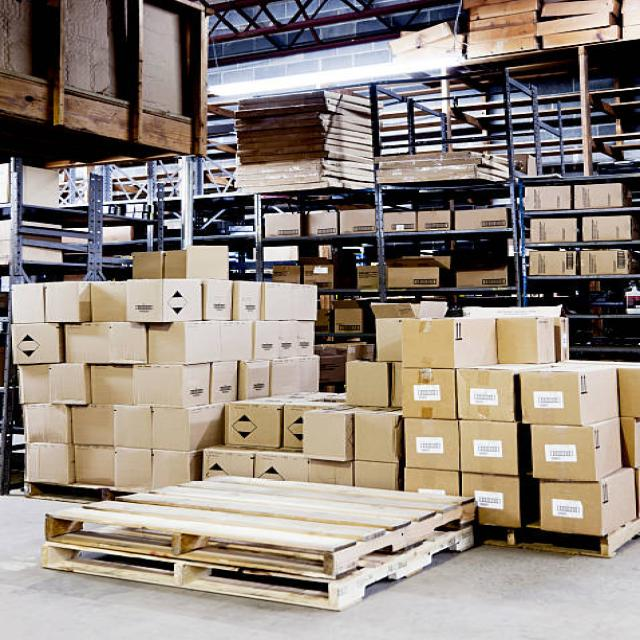Wooden-Pallets: (34, 459, 484, 577), (17, 512, 490, 621)
